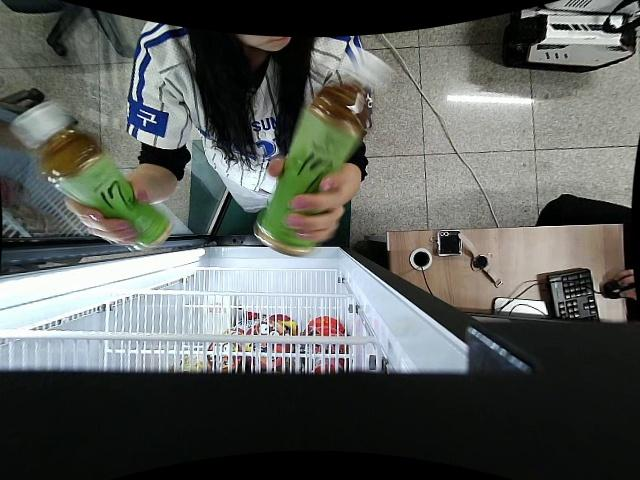00_hand: (266, 154, 360, 245), (61, 175, 151, 241)
19_17cha: (255, 49, 388, 257), (13, 102, 173, 253)
